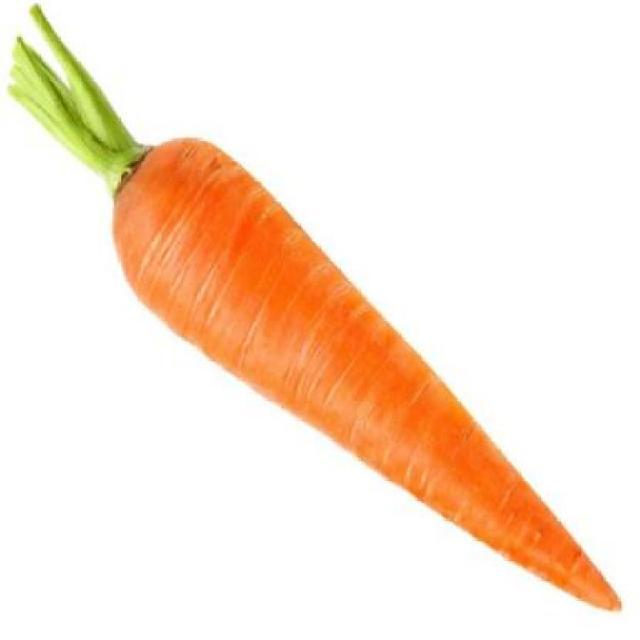carrot: (83, 108, 631, 622)
